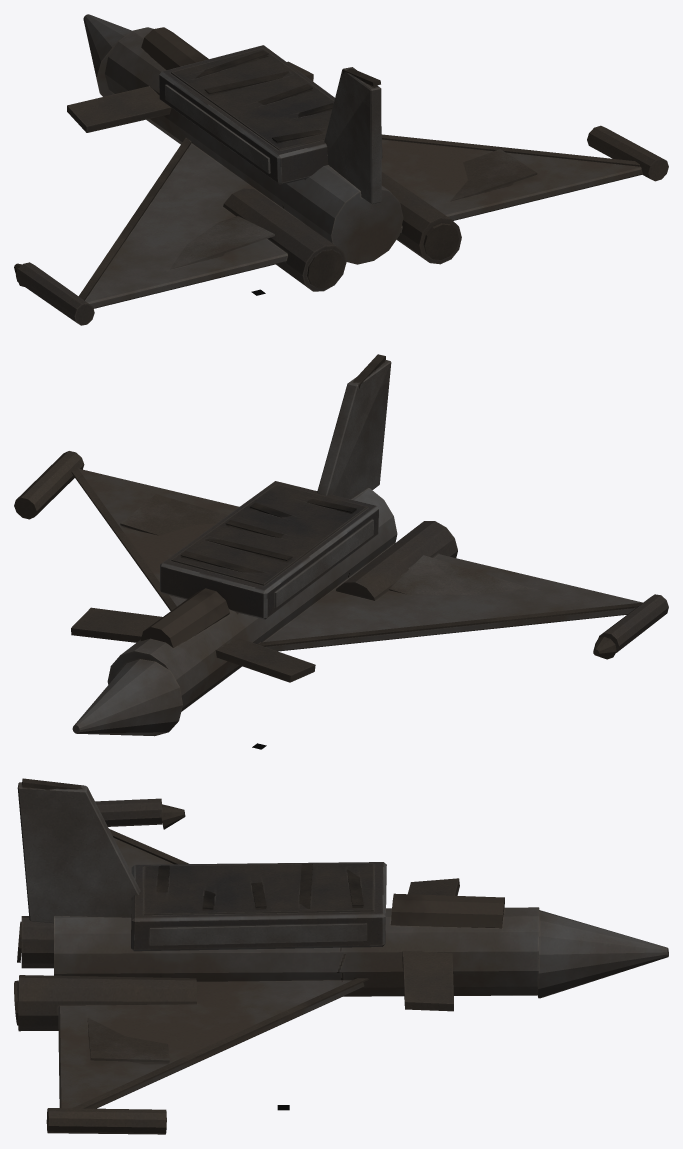
The model's file is chs_banshee_wreck.fbx.
3 renders of one model, top to bottom at view 1: azimuth 30°, elevation 25°; view 2: azimuth 150°, elevation 25°; view 3: azimuth 270°, elevation 25°, orthographic. The views are drawn at different scales.
Parts seen in each view (by area): view 1: base_bar, dish_bar; view 2: base_bar, dish_bar; view 3: base_bar, dish_bar.
Boxes of the visible parts, <box> form: base_bar: <box>14,14,668,325</box>; dish_bar: <box>159,45,382,184</box>; base_bar: <box>14,354,668,736</box>; dish_bar: <box>160,481,378,619</box>; base_bar: <box>14,778,668,1134</box>; dish_bar: <box>131,862,386,951</box>.
Bounding box in the file's own units: 1259 × 598 × 1087.
2 materials, 2 textured.
